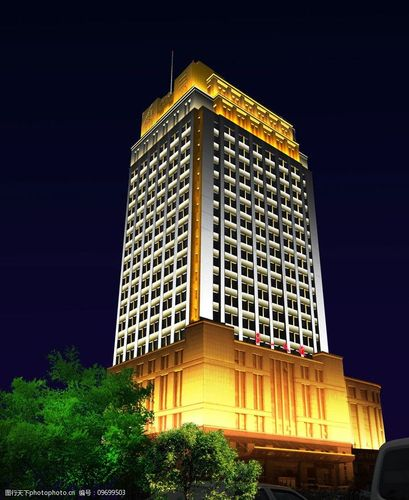buildings: (84, 92, 360, 481)
